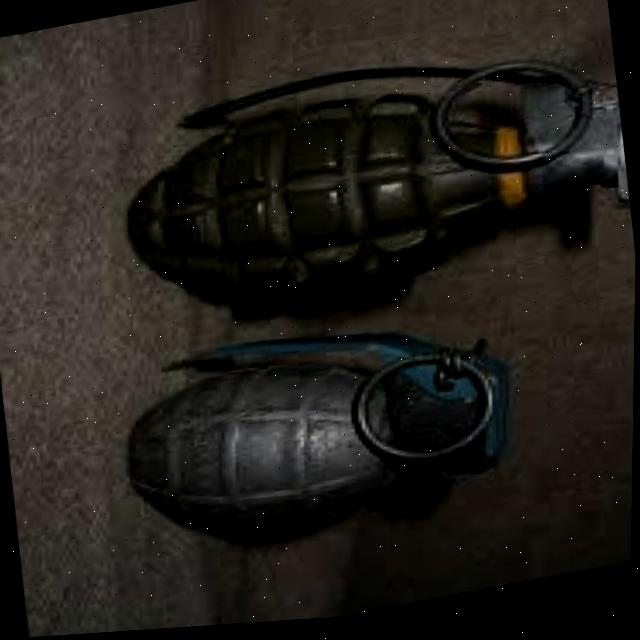grenade: (97, 0, 640, 392), (101, 286, 535, 599)
